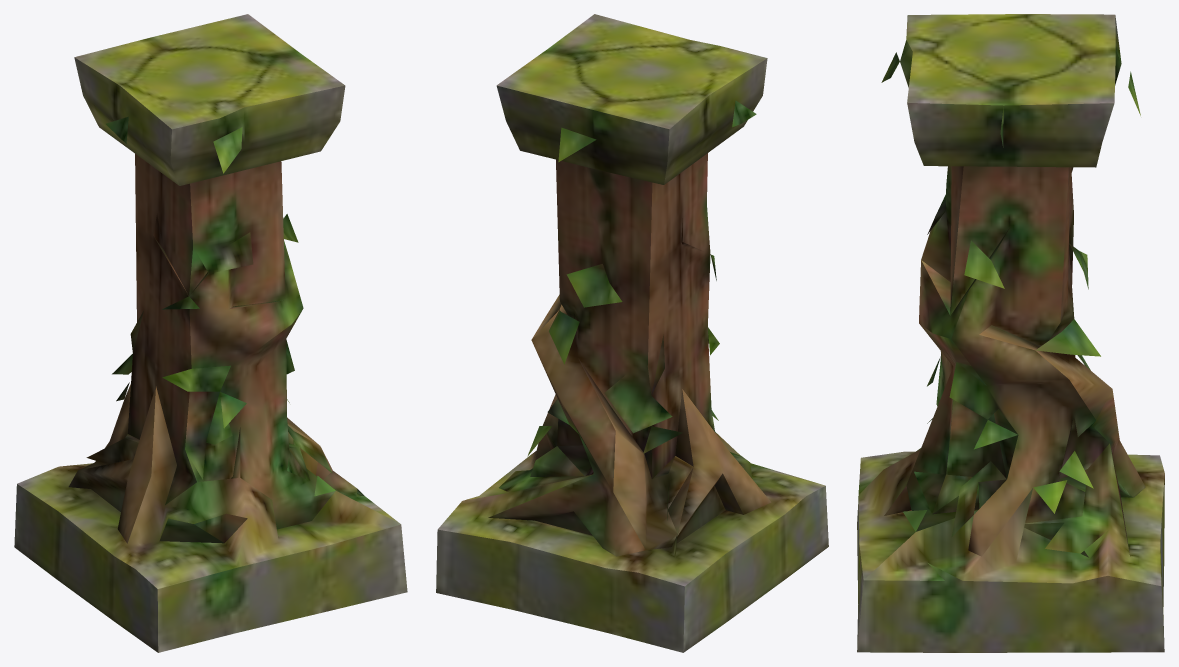
File: b_racines_pilier.glb
3 views of the same model, side by side, from view 1: azimuth 30°, elevation 25°; view 2: azimuth 150°, elevation 25°; view 3: azimuth 270°, elevation 25° (orthographic). The views are drawn at different scales.
Parts seen in each view (by area): view 1: geometry_0; view 2: geometry_0; view 3: geometry_0.
Boxes of the visible parts, x1,y1,x2,y2 form: geometry_0: (14, 14, 407, 652); geometry_0: (436, 14, 828, 652); geometry_0: (857, 14, 1164, 652).
Bounding box in the file's own units: 1 × 1.91 × 1.
1 material, 1 textured.
